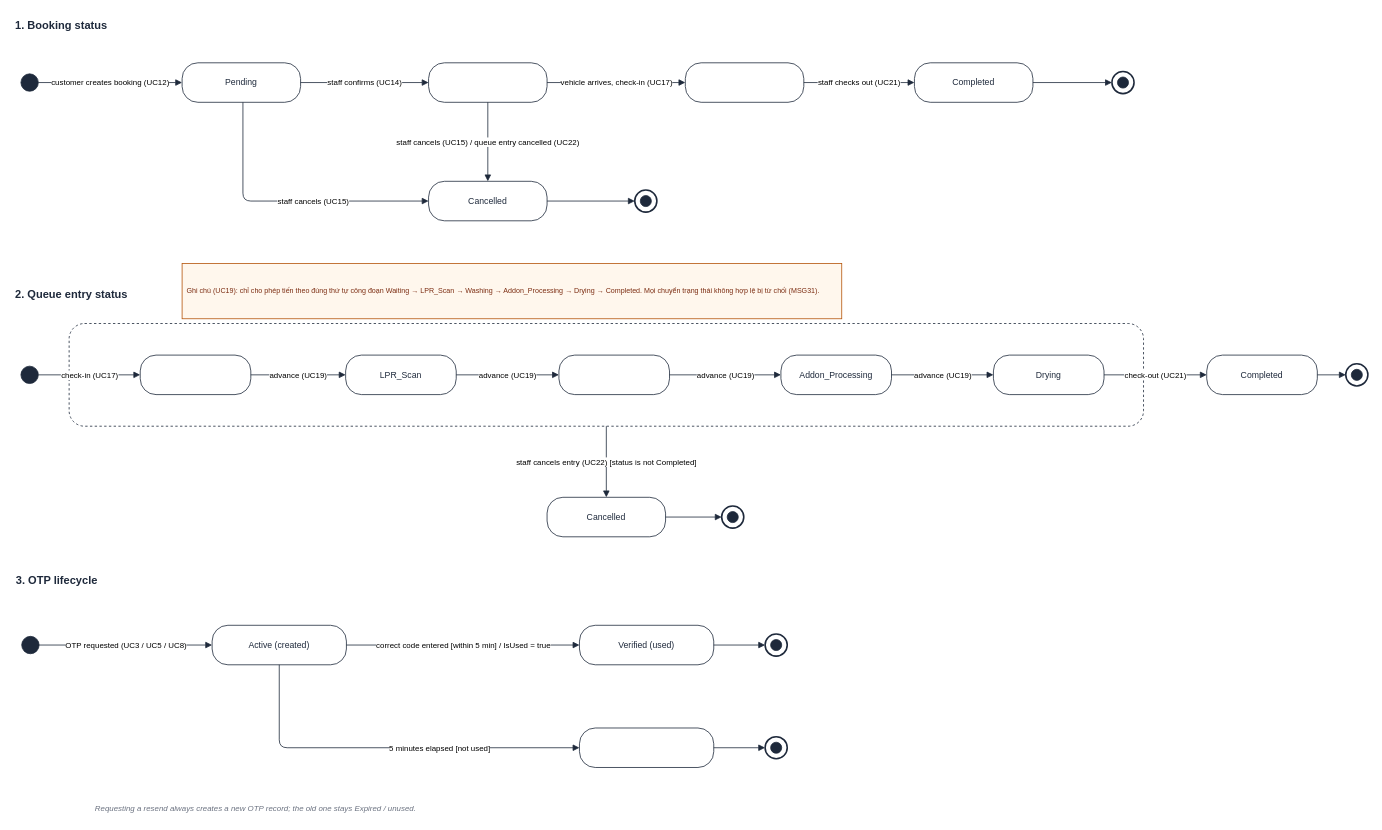
This 1382x830 diagram has some shape labels left out. Here are the shapes that lost their labels. From the top down, the box of each, then its label:
(428, 62, 547, 102): Confirmed
(685, 62, 804, 102): CheckedIn
(139, 354, 251, 395): Waiting
(68, 323, 1144, 426): In progress
(558, 354, 670, 395): Washing
(579, 727, 714, 767): Expired
